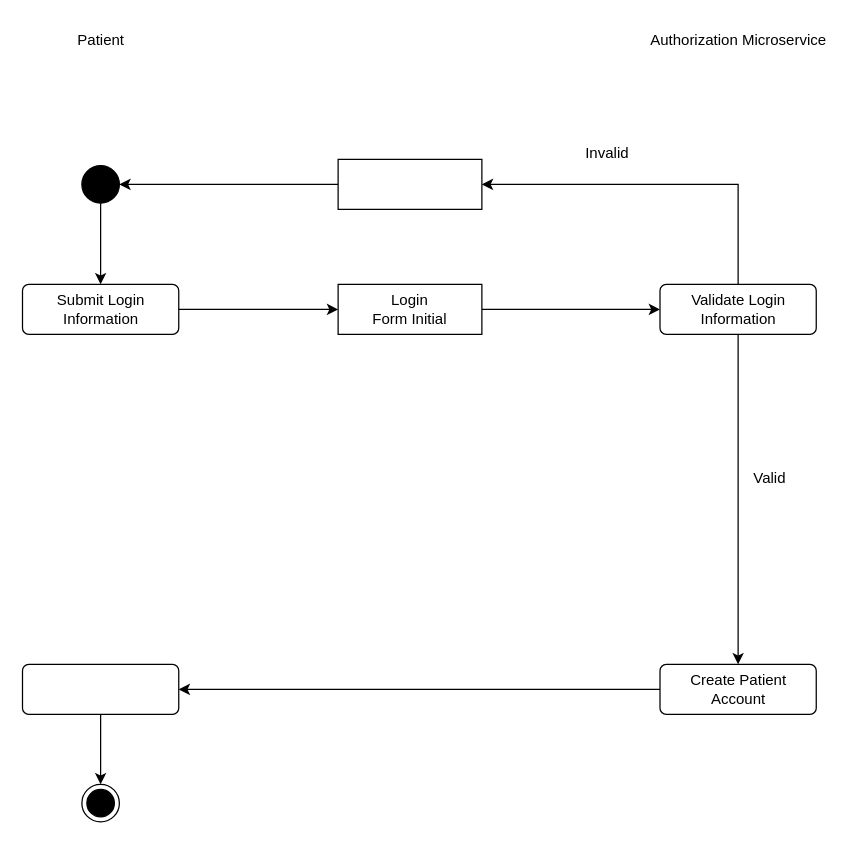
Image size: 859x844. Some labels were removed from this diagram. The shapes that lost their labels are listed below. From the top down, each one's centre as x and y in pixels, then its label:
At (409,183): "Login Form Error".
At (100,688): "Show Patient Account".
